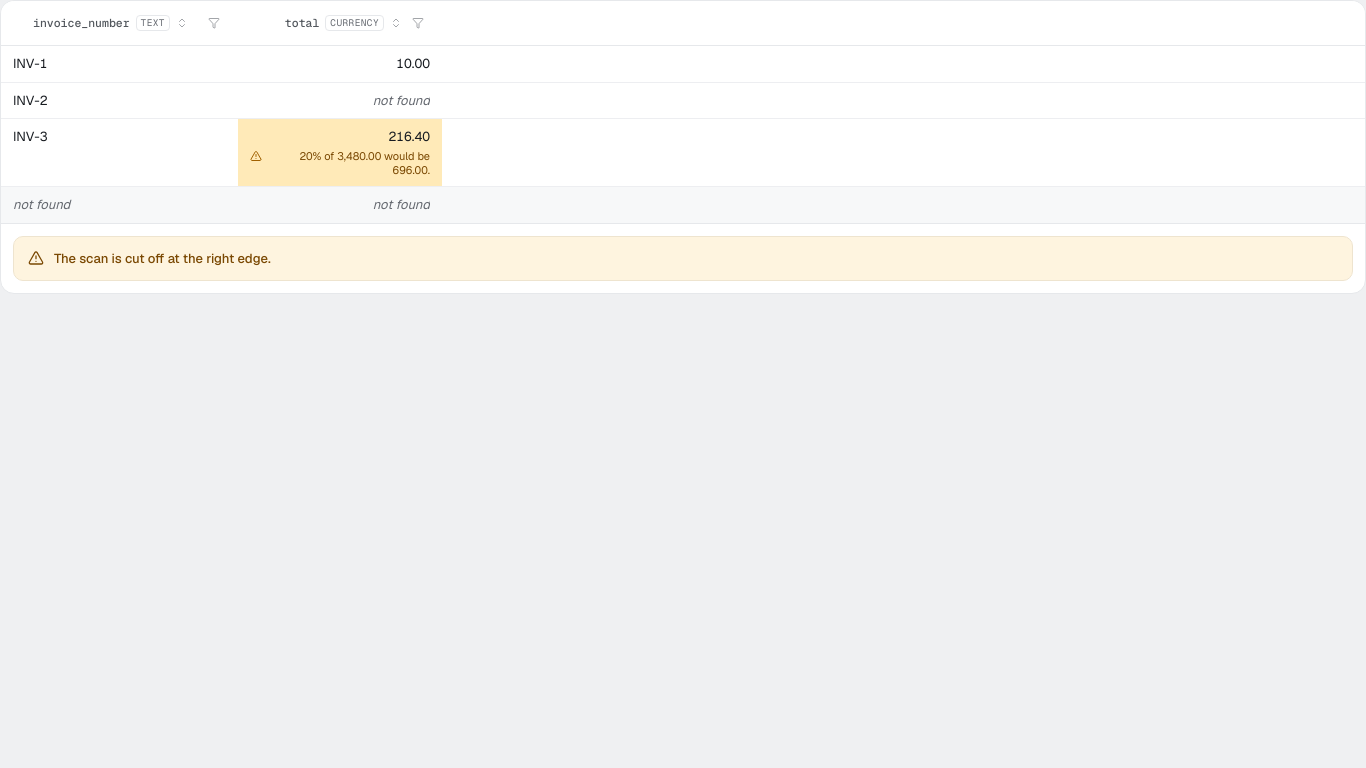
DataTable › filters one column without touching the others
This screenshot has width=1366, height=768.
Step 1. Click the button named "Filter invoice_number" → (214, 23), box [202, 11, 226, 35]
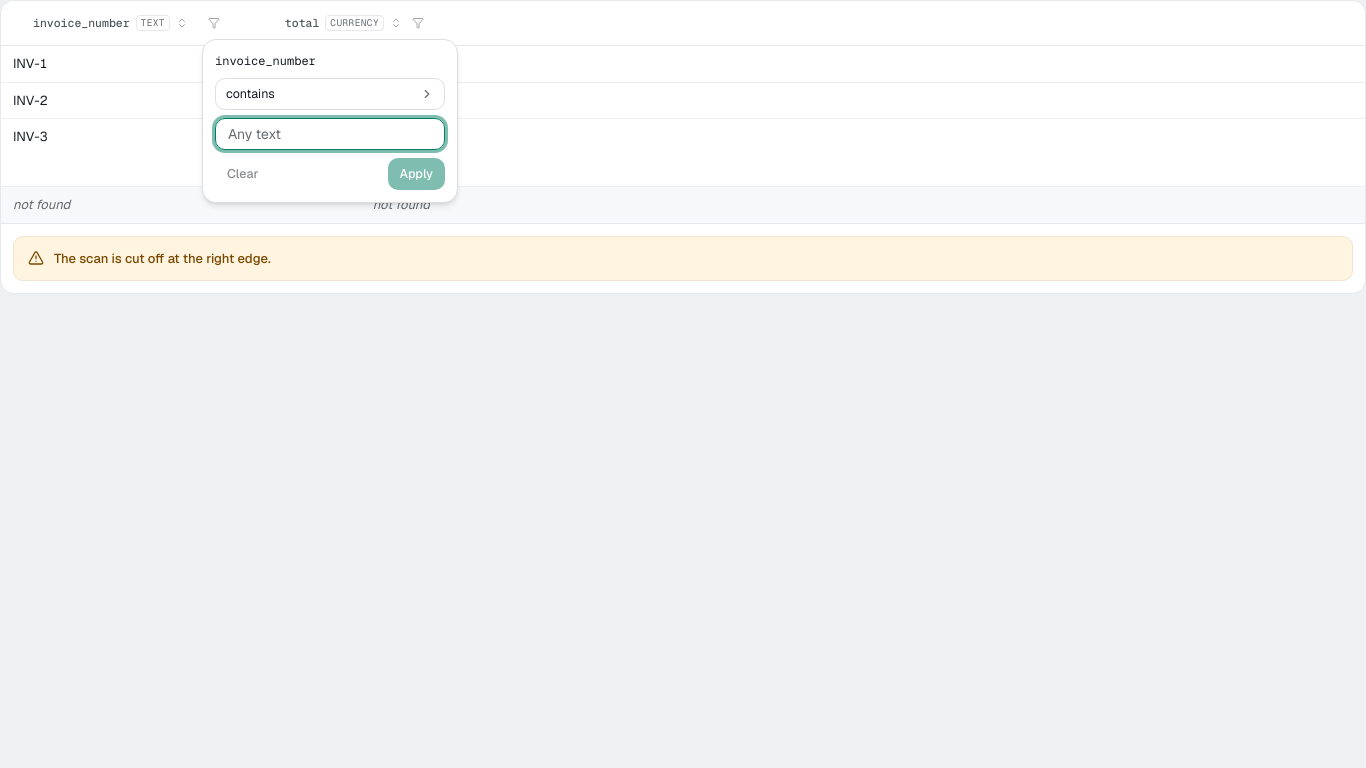
Step 2. Type "INV-2" into the field named "Value for invoice_number" → (330, 134), box [215, 118, 445, 150]
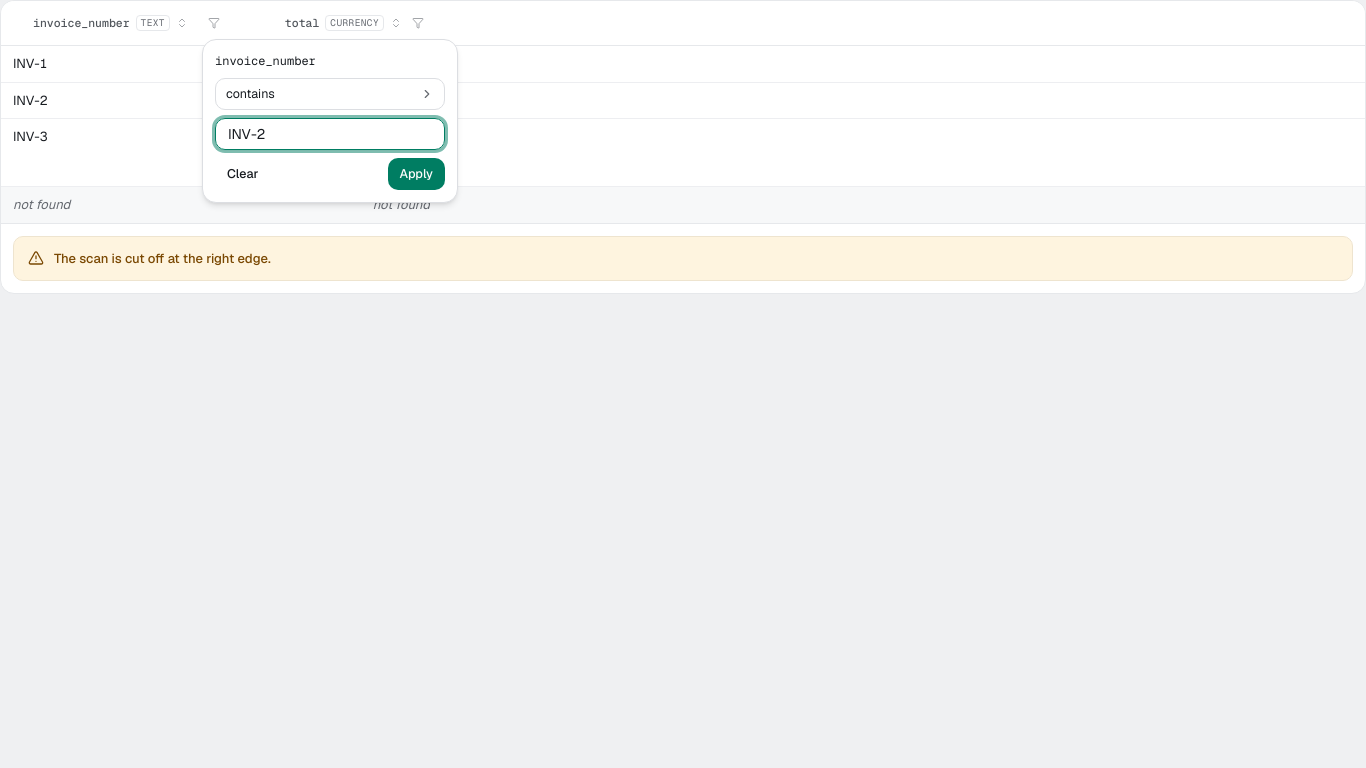
Step 3. Click the button "Apply" → (416, 174), box [388, 158, 445, 190]
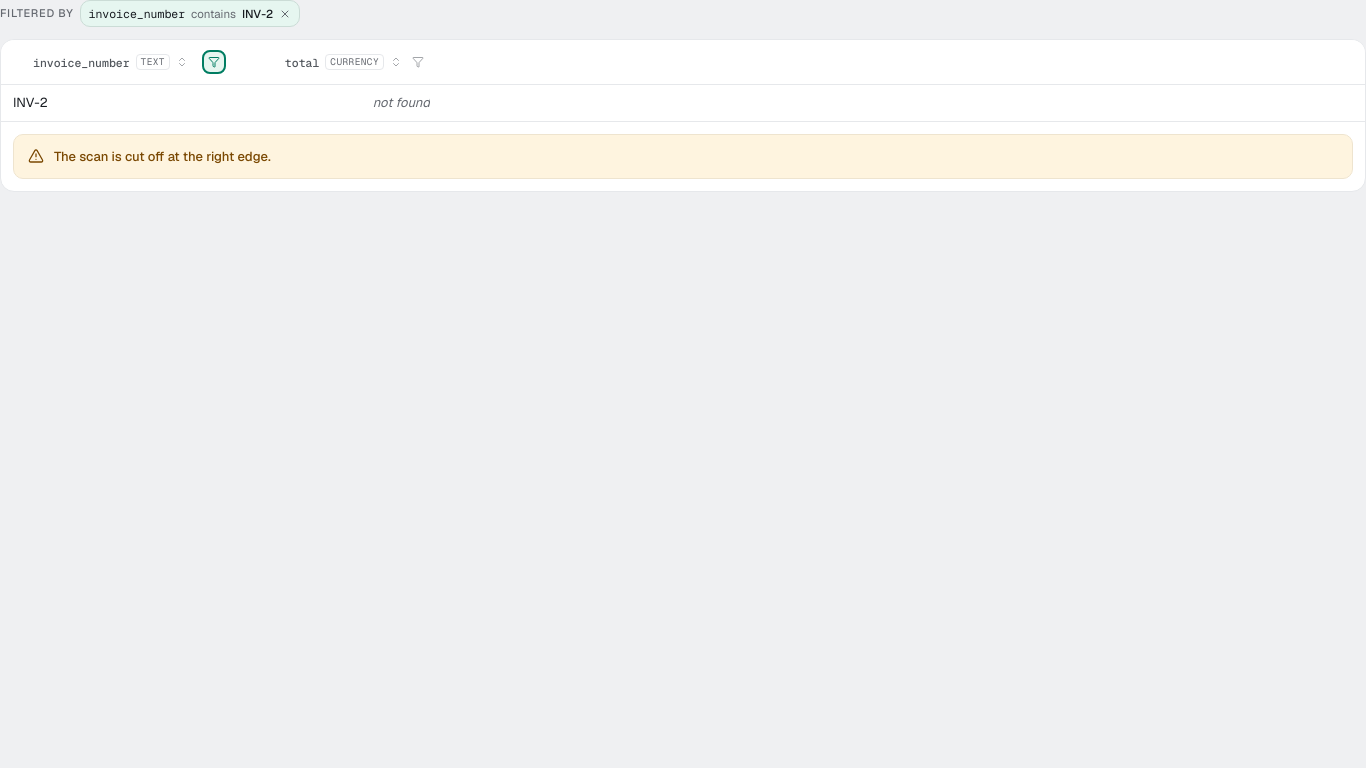
expect the text "INV-2" in the row of "not found" is shown: met, box [13, 94, 48, 111]
expect the text "INV-1" is gone: met
